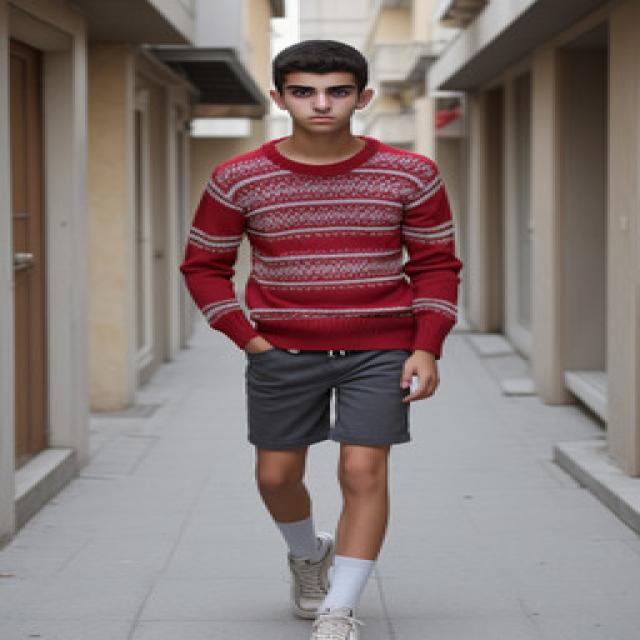Ai human 2: (168, 30, 483, 640)
